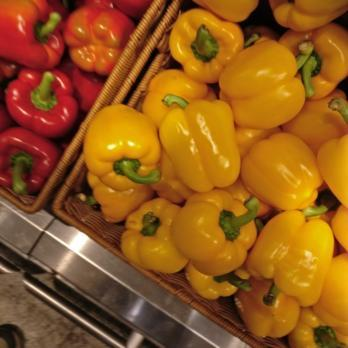Capsicum: (92, 106, 348, 270), (172, 0, 348, 107), (180, 273, 348, 347), (0, 0, 53, 190), (51, 2, 81, 129), (82, 2, 112, 71)
